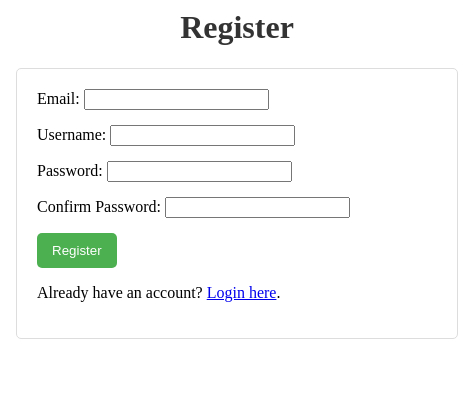
Register Component › shows error message with invalid email
Type "wrong@exa" into the field labelled "Email:" at (176, 99), box [84,89,269,110]
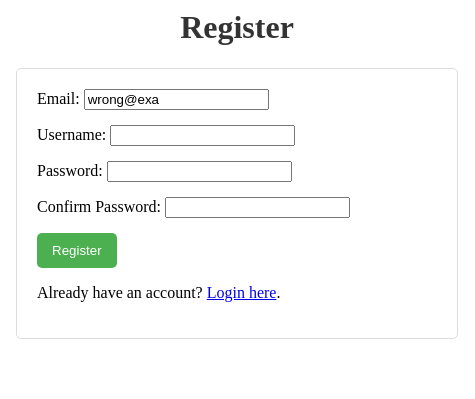
Type "wrong" into the field labelled "Username:" at (203, 135), box [110,125,295,146]
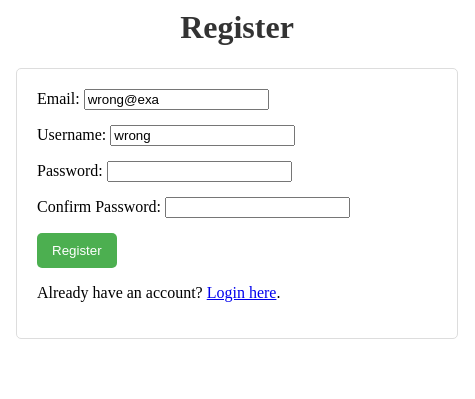
Type "wrongpassword" into the password field with test id "registerPassword" at (199, 171), box [107,161,292,182]
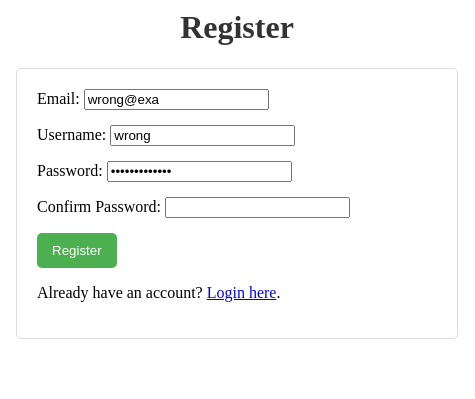
Type "wrongpassword" into the password field with test id "confirmPassword" at (258, 207), box [165,197,350,218]
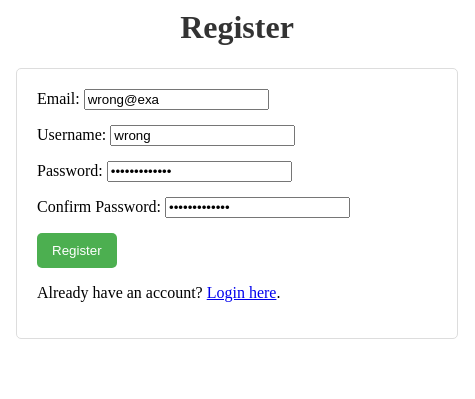
Click the button "Register" at (77, 250), box [37,233,117,268]
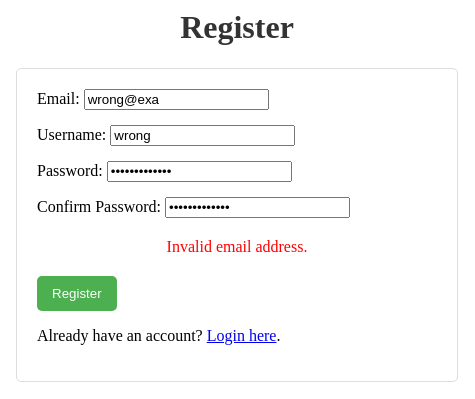
Expected: the text "Invalid email address." is shown, [167,238,307,255]
